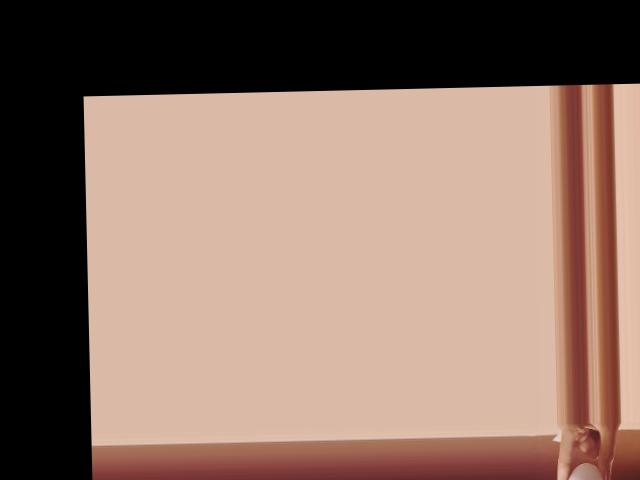egg: (565, 461, 607, 480)
